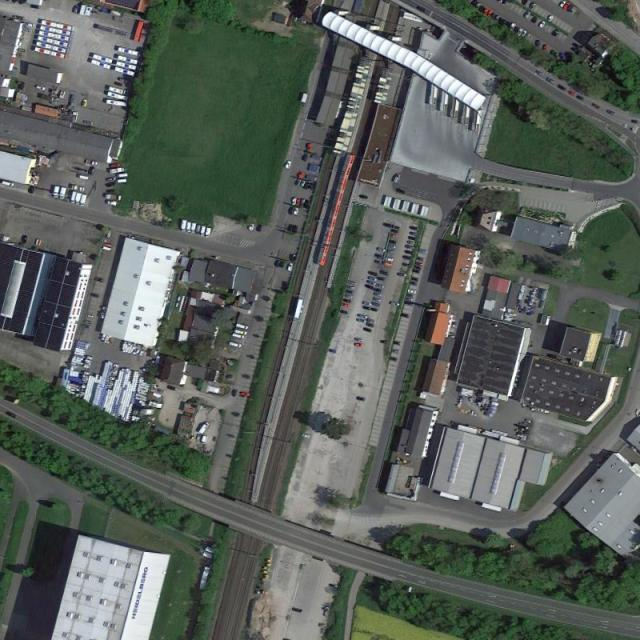vehicle: (198, 422, 210, 435), (106, 194, 122, 201), (2, 180, 15, 187), (546, 77, 556, 86), (538, 20, 547, 30), (374, 282, 385, 290), (5, 411, 16, 419), (534, 69, 545, 77), (516, 27, 524, 38), (59, 187, 66, 199), (362, 327, 374, 334), (236, 324, 250, 330), (234, 330, 248, 336), (232, 334, 246, 340), (230, 342, 242, 349), (366, 279, 376, 287), (364, 283, 374, 291), (557, 84, 567, 92), (523, 32, 531, 42), (528, 2, 538, 10), (71, 191, 77, 204), (76, 192, 82, 205), (368, 270, 379, 277), (379, 270, 390, 277), (382, 261, 393, 268), (367, 275, 378, 282), (358, 313, 369, 320), (54, 186, 60, 198), (81, 194, 87, 206), (182, 220, 188, 232), (191, 222, 197, 234), (106, 176, 118, 182), (523, 10, 531, 19), (474, 1, 482, 10), (478, 5, 486, 14), (563, 2, 571, 11), (592, 102, 601, 110), (530, 16, 538, 25), (552, 29, 560, 38), (512, 26, 520, 35), (106, 200, 118, 206), (344, 293, 354, 300), (345, 289, 355, 296), (346, 284, 356, 291), (347, 279, 357, 286), (606, 109, 616, 116), (510, 22, 517, 32), (35, 85, 46, 91), (389, 301, 400, 307), (167, 385, 178, 391), (302, 154, 310, 162), (547, 14, 555, 22), (303, 181, 310, 190), (307, 182, 314, 191), (288, 206, 295, 215), (286, 224, 293, 233), (341, 302, 350, 309), (374, 286, 383, 293), (491, 11, 498, 20), (568, 90, 577, 97), (576, 95, 585, 102), (417, 6, 426, 13), (521, 30, 528, 39), (415, 261, 425, 267), (418, 249, 428, 255), (387, 244, 397, 250), (187, 221, 192, 233), (286, 160, 292, 170), (342, 298, 352, 304), (371, 301, 381, 307), (400, 313, 410, 319), (372, 297, 382, 303), (373, 292, 383, 298), (240, 391, 250, 397), (356, 396, 366, 402), (327, 348, 337, 354), (542, 44, 548, 54), (374, 259, 382, 266), (231, 390, 238, 398), (487, 10, 494, 18), (494, 14, 501, 22), (559, 1, 566, 9), (567, 5, 574, 13), (470, 1, 478, 8), (201, 225, 206, 236), (206, 227, 211, 238), (377, 247, 386, 253), (410, 225, 419, 231), (406, 244, 415, 250), (402, 262, 411, 268), (196, 225, 202, 234), (306, 143, 312, 152), (88, 166, 94, 175), (257, 224, 263, 233), (366, 318, 375, 324), (370, 307, 379, 313), (390, 349, 399, 355), (85, 313, 94, 319), (288, 263, 294, 272), (83, 319, 92, 325), (82, 324, 91, 330), (560, 53, 566, 62), (408, 289, 418, 294), (388, 240, 398, 245), (408, 236, 418, 241), (403, 255, 413, 260), (397, 273, 407, 278), (301, 198, 306, 208), (356, 318, 366, 323), (362, 301, 372, 306), (94, 277, 104, 282), (536, 40, 541, 50), (482, 8, 489, 15), (417, 256, 425, 262), (378, 276, 386, 282), (296, 178, 302, 186), (300, 180, 306, 188), (292, 198, 298, 206), (296, 198, 302, 206), (292, 226, 298, 234), (290, 255, 296, 263), (366, 322, 374, 328), (274, 259, 280, 267), (414, 265, 423, 270), (410, 281, 419, 286), (375, 254, 384, 259), (390, 229, 399, 234), (383, 223, 392, 228), (409, 231, 418, 236), (407, 241, 416, 246), (411, 277, 420, 282), (305, 199, 310, 208), (74, 5, 79, 14), (82, 99, 87, 108), (340, 310, 349, 315), (362, 306, 371, 311), (389, 357, 398, 362), (393, 341, 402, 346), (90, 293, 99, 298), (280, 260, 285, 269), (413, 269, 421, 274), (386, 257, 394, 262), (294, 208, 299, 216), (249, 224, 254, 232), (106, 190, 116, 194), (106, 182, 114, 187), (354, 337, 362, 342), (405, 298, 414, 302), (405, 250, 414, 254), (354, 343, 363, 347), (302, 434, 311, 438), (631, 119, 638, 124), (406, 294, 414, 298), (387, 250, 395, 254), (390, 234, 398, 238), (393, 226, 401, 230), (18, 1, 26, 5), (226, 375, 234, 379), (551, 50, 555, 58), (556, 53, 560, 60), (522, 1, 527, 6), (380, 341, 388, 344), (11, 1, 18, 4), (467, 1, 474, 4), (502, 1, 507, 5), (498, 1, 503, 3)
